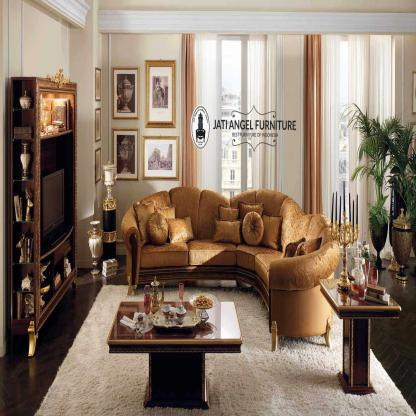bantal: (167, 218, 193, 242), (214, 220, 241, 243), (264, 217, 281, 251)
kursi: (360, 115, 394, 271)
sova: (121, 191, 335, 348)
tanaman: (112, 296, 242, 408), (319, 274, 402, 407)
